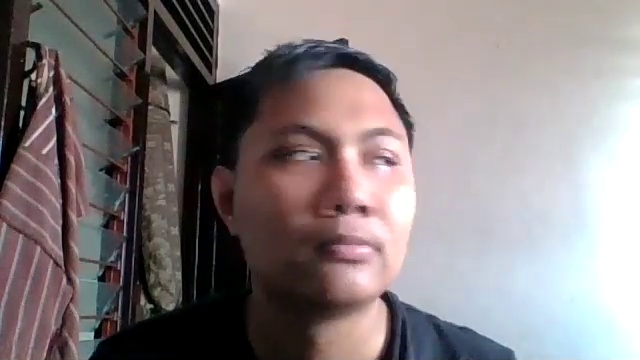Distracted: (213, 63, 420, 301)
